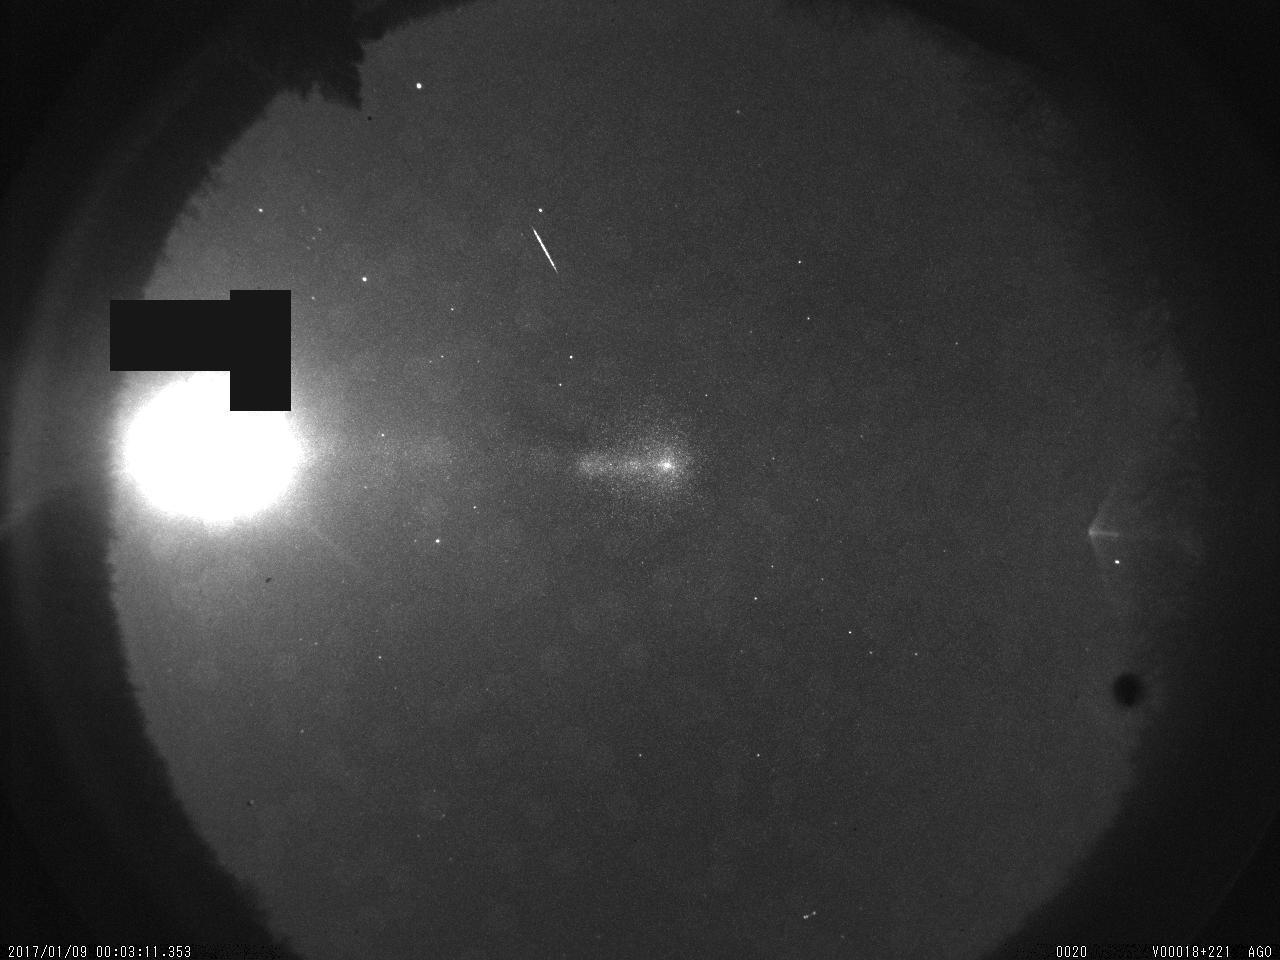Meteor: (529, 218, 571, 283)
